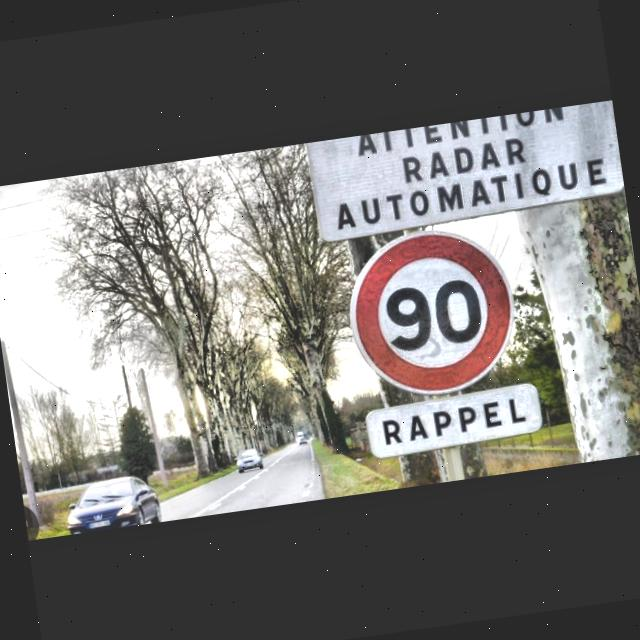speed_90: (342, 216, 526, 404)
